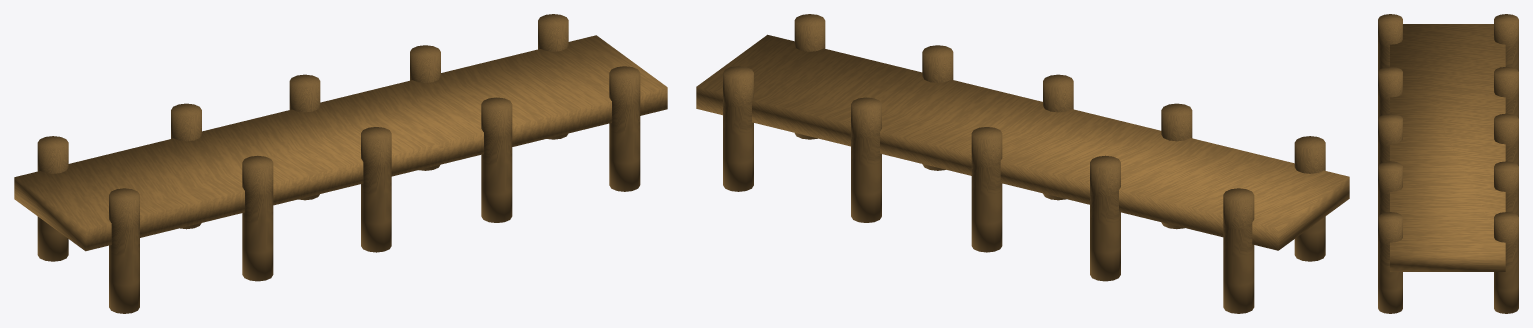
File: Dock.obj
3 views of the same model, side by side, from view 1: azimuth 30°, elevation 25°; view 2: azimuth 150°, elevation 25°; view 3: azimuth 270°, elevation 25° (orthographic). The views are drawn at different scales.
Visible parts, largest first — view 1: Cube, Cylinder; view 2: Cube, Cylinder; view 3: Cube, Cylinder.
Boxes of the visible parts, x1,y1,x2,y2 form: Cube: [14, 35, 667, 251]; Cylinder: [37, 14, 640, 313]; Cube: [696, 34, 1349, 250]; Cylinder: [723, 14, 1325, 313]; Cube: [1390, 24, 1505, 271]; Cylinder: [1378, 14, 1518, 313].
Size of the model in its own units: 4.72 by 0.8719 by 1.22.
